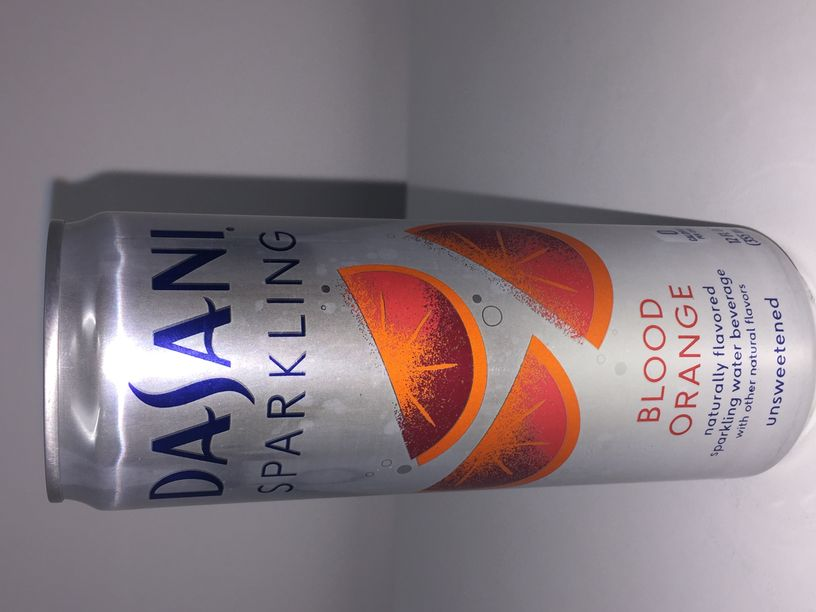blood_orange: (37, 209, 816, 513)
